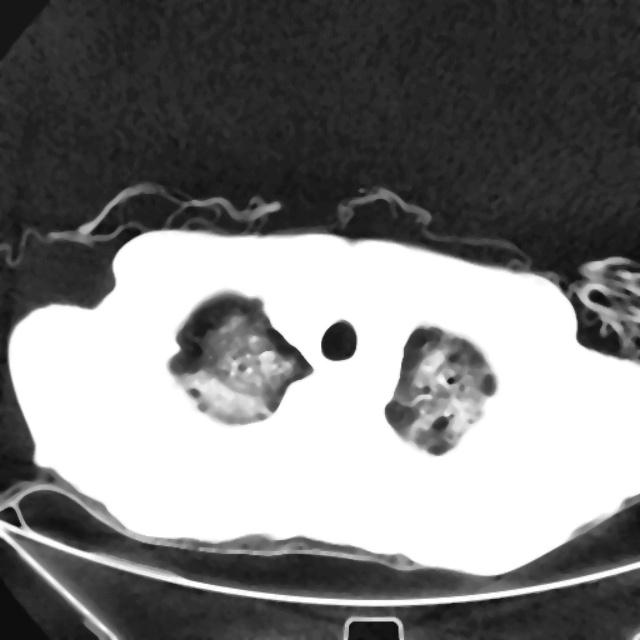covid: (166, 288, 313, 426), (383, 323, 497, 456)
